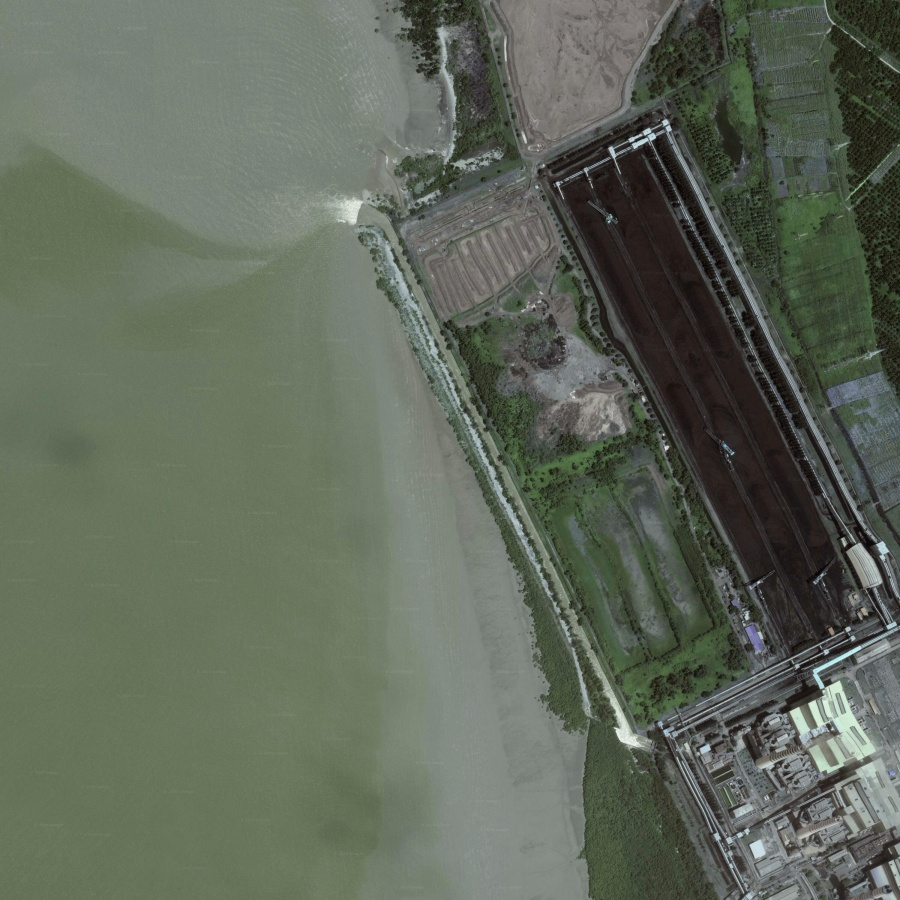PowerPlant: (562, 121, 885, 658)
